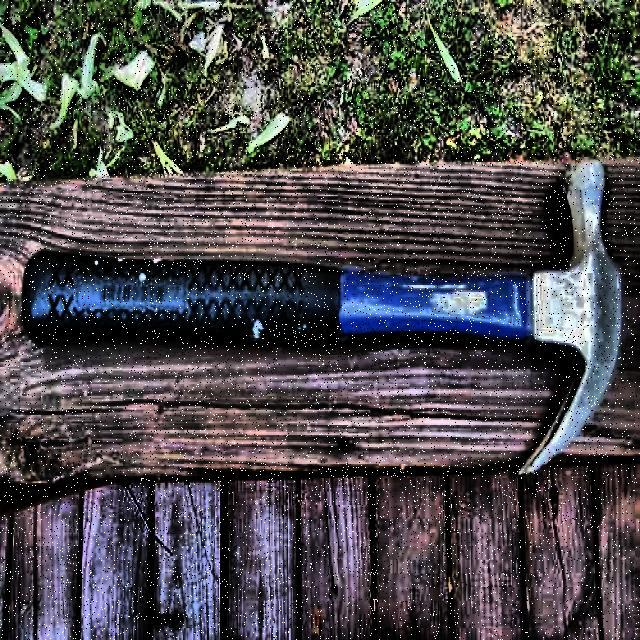hammer: (21, 159, 627, 474)
